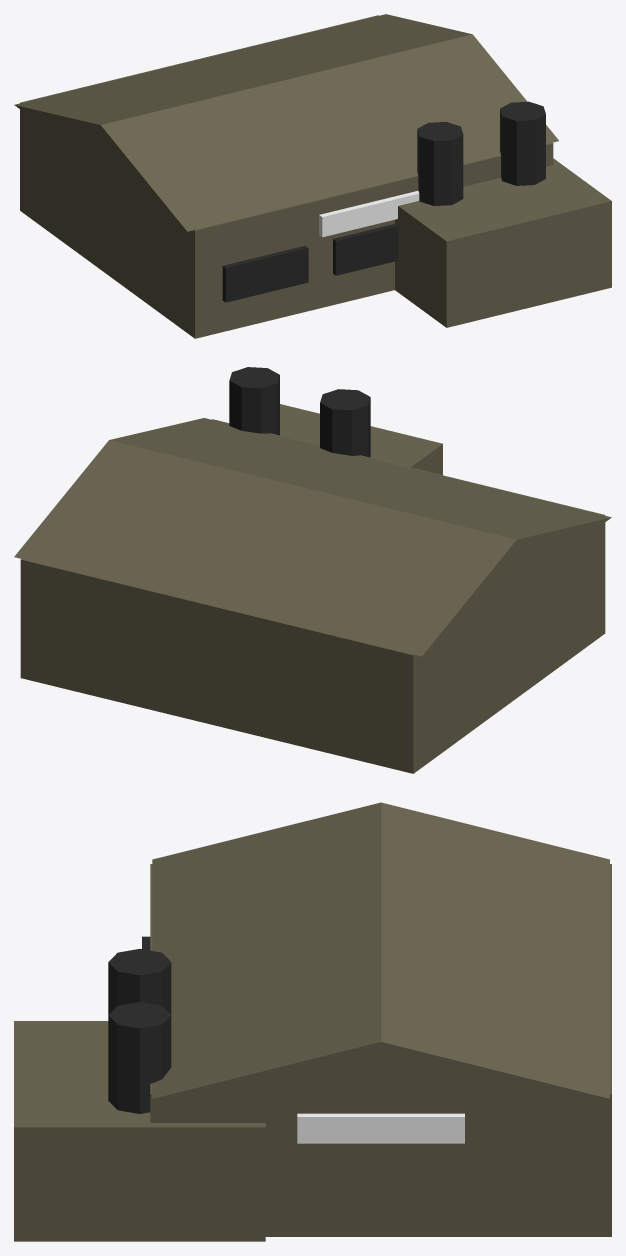
Rendered from ru-power-plant.glb.
3 renders of one model, top to bottom at view 1: azimuth 30°, elevation 25°; view 2: azimuth 150°, elevation 25°; view 3: azimuth 270°, elevation 25°, orthographic. The views are drawn at different scales.
Visible parts, largest first — view 1: ru-power-plant; view 2: ru-power-plant; view 3: ru-power-plant.
Boxes of the visible parts, x1,y1,x2,y2 form: ru-power-plant: (14,14,611,338); ru-power-plant: (14,367,611,773); ru-power-plant: (14,802,611,1241).
Size of the model in its own units: 2.7 by 1.05 by 2.85.
